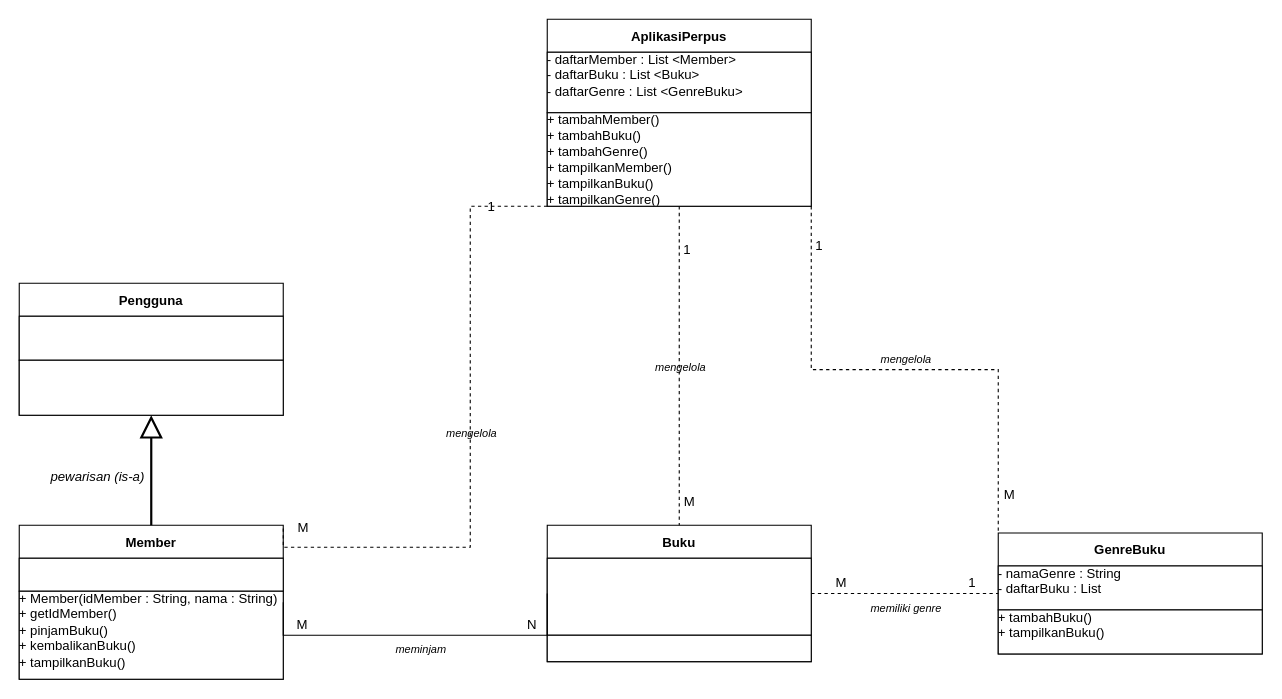
This 1282x699 diagram has some shape labels left out. Here are the shapes that lost their labels. From the top down, the centre of each, then its label:
pixel 150 337: # id : String # nama : String
pixel 150 387: + Pengguna() + getId() : String + getNama() : String
pixel 150 574: - daftarBuku : List <Buku>
pixel 678 596: - judul : String - penulis : String - kodeBuku : String - genre : GenreBuku
pixel 678 648: + tampilkanInfo()
